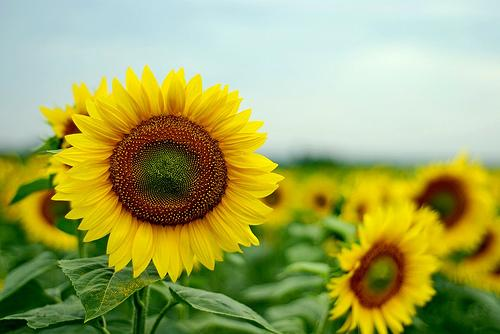sunflower: (51, 66, 286, 277), (328, 202, 440, 334)
